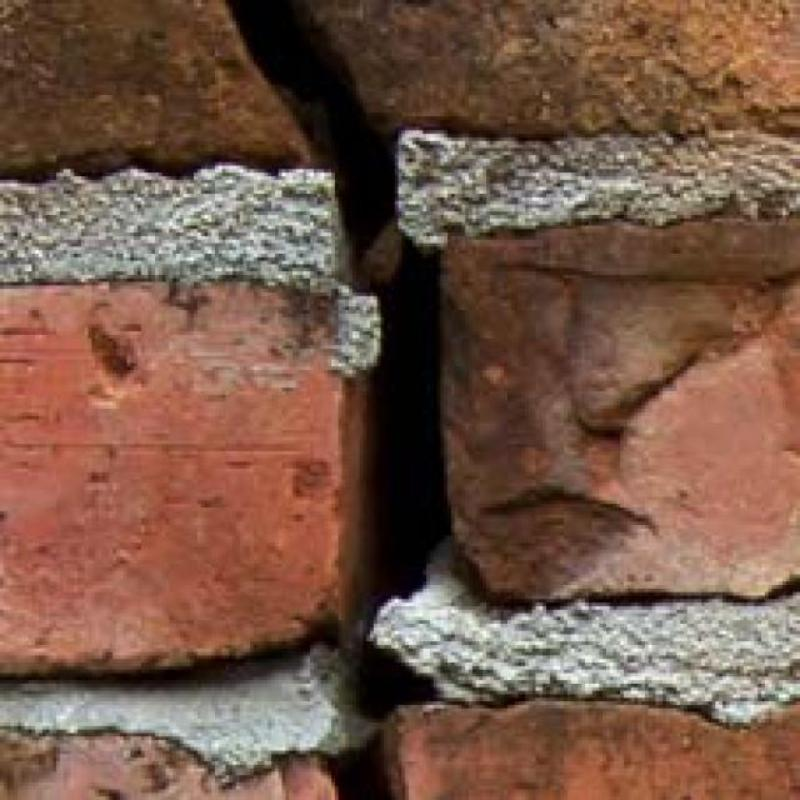pothole: (227, 0, 450, 718), (434, 542, 799, 611), (0, 719, 339, 789), (0, 614, 339, 680), (340, 736, 392, 799)
